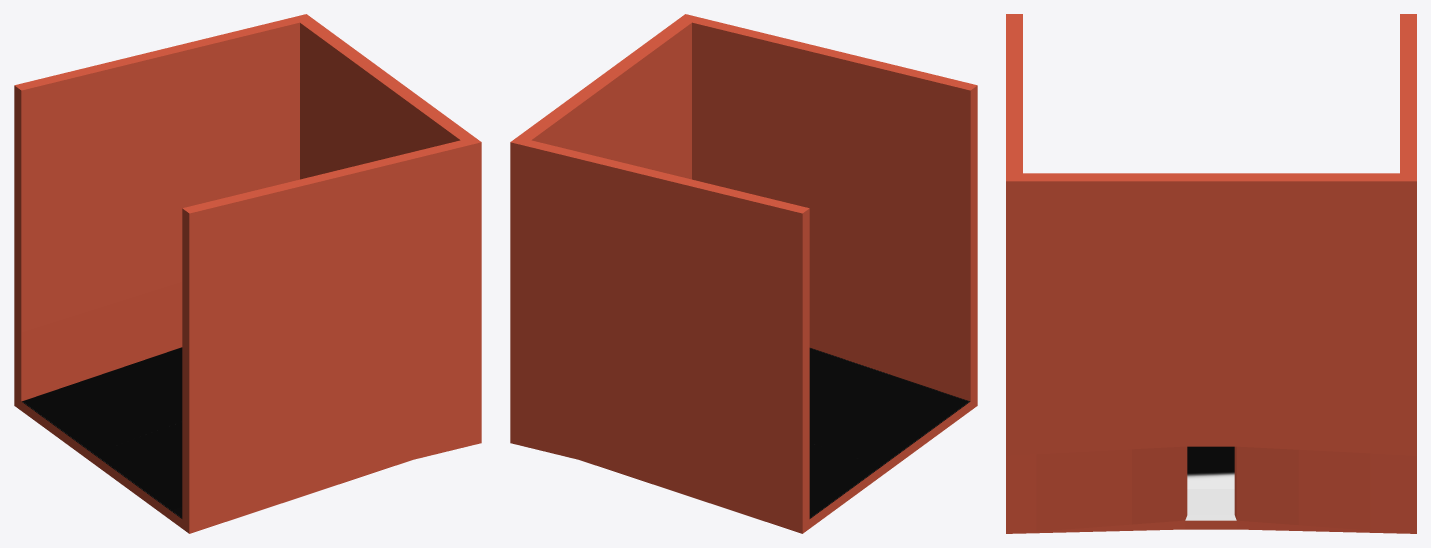
The model's file is FirstLevel_room1.fbx.
The picture shows the model from 3 angles, left to right: view 1: azimuth 30°, elevation 25°; view 2: azimuth 150°, elevation 25°; view 3: azimuth 270°, elevation 25°; orthographic projection. The views are drawn at different scales.
Visible parts, largest first — view 1: Cube.001; view 2: Cube.001; view 3: Cube.001.
Boxes of the visible parts, x1,y1,x2,y2 form: Cube.001: (14,14,481,533); Cube.001: (510,14,977,533); Cube.001: (1006,14,1416,533).
Bounding box in the file's own units: 2142 × 2244 × 2223.
Materials: 2 (1 with a texture image).
